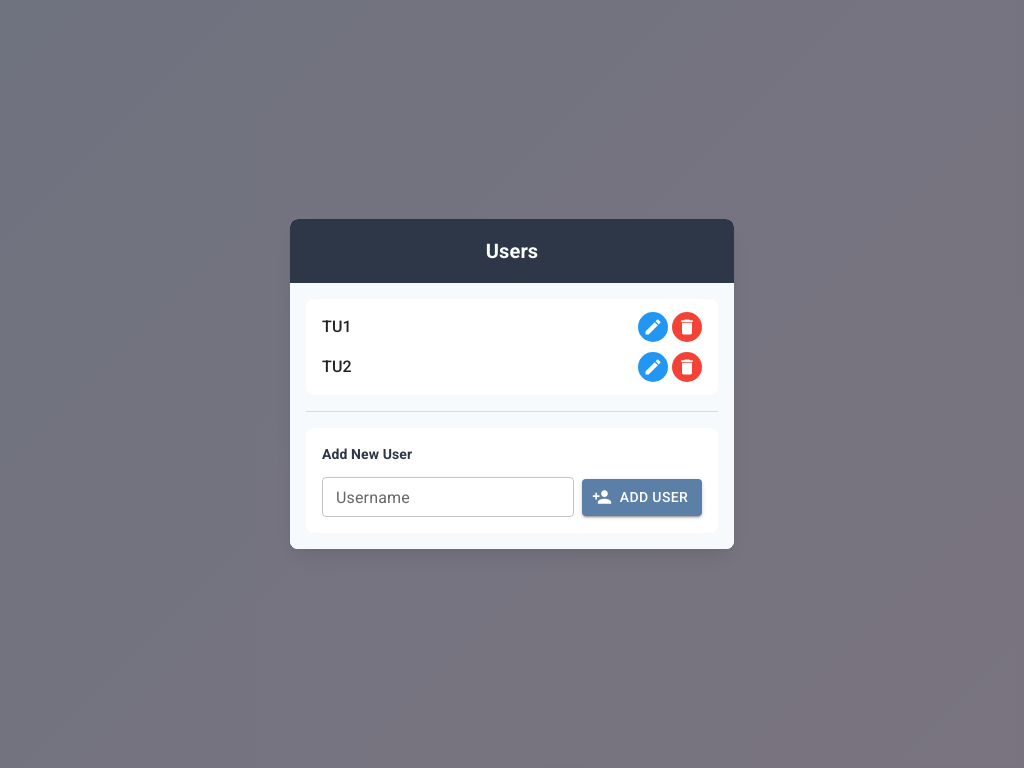
Test: edit-user-existing-username
The image size is (1024, 768).
Expected: the text "TU1" is shown, [322, 316, 352, 336]
Click the button named "Edit TU1" at [653, 326], box [638, 312, 668, 342]
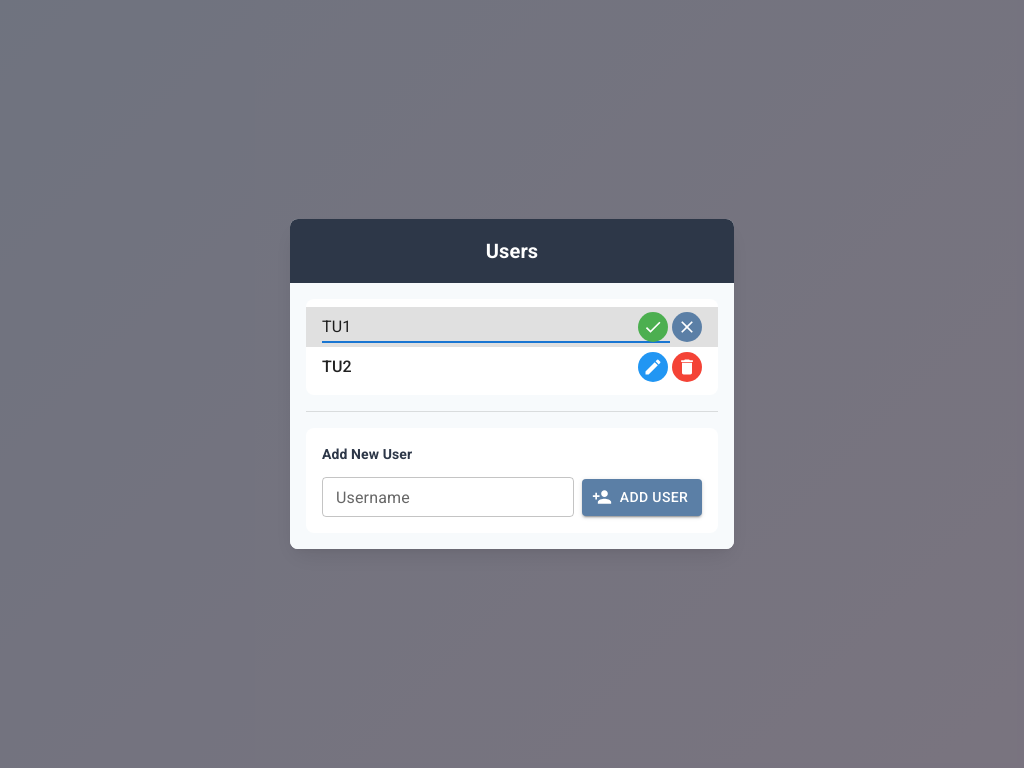
Replace the text in the field showing "TU1" with "TU2" at [496, 326], box [322, 310, 670, 342]
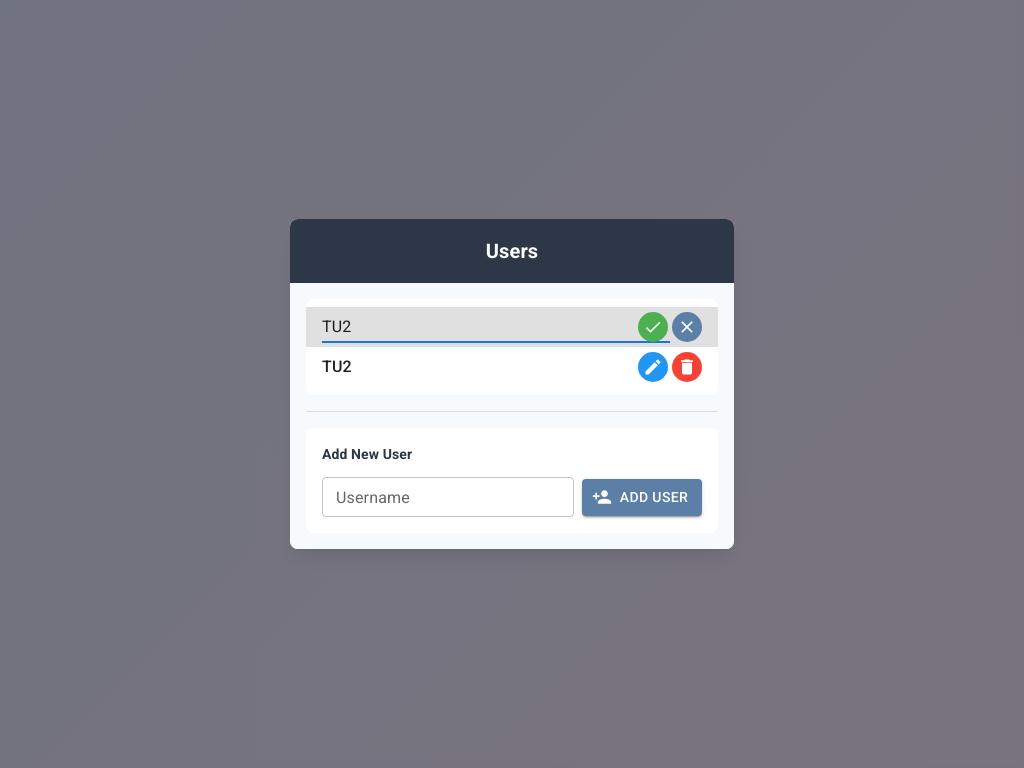
Click the button named "Save edit" at [653, 326], box [638, 312, 668, 342]
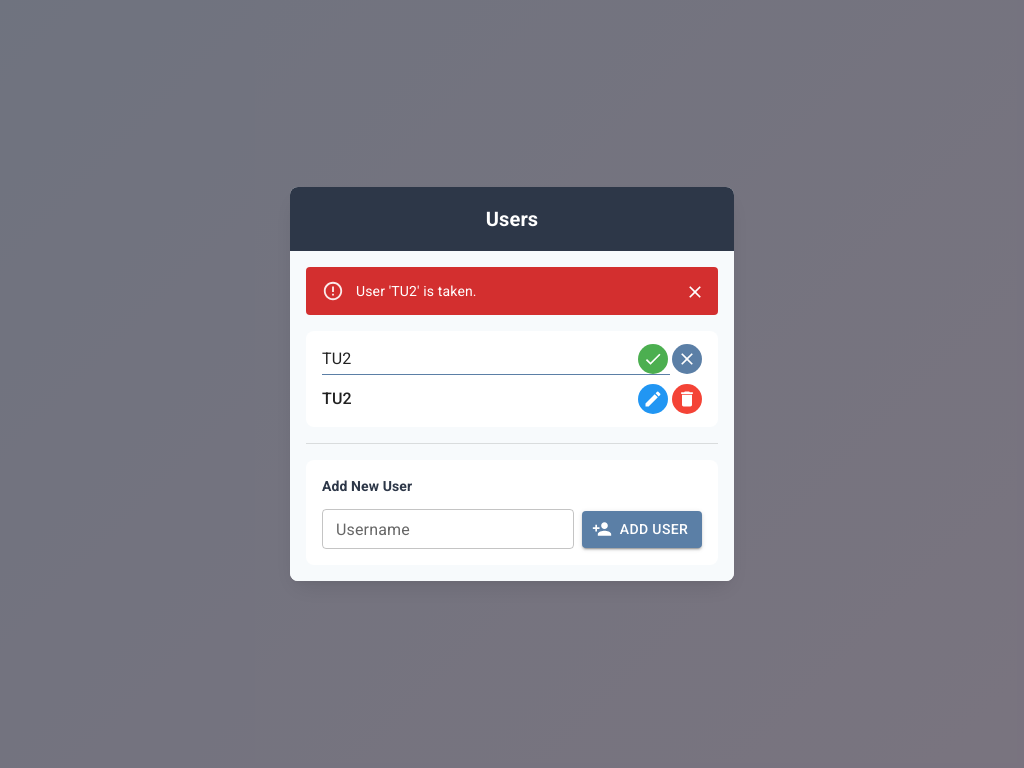
Expected: the text "TU2" is shown, [322, 388, 352, 408]
Expected: the text "User 'TU2' is taken." is shown, [356, 280, 477, 300]
